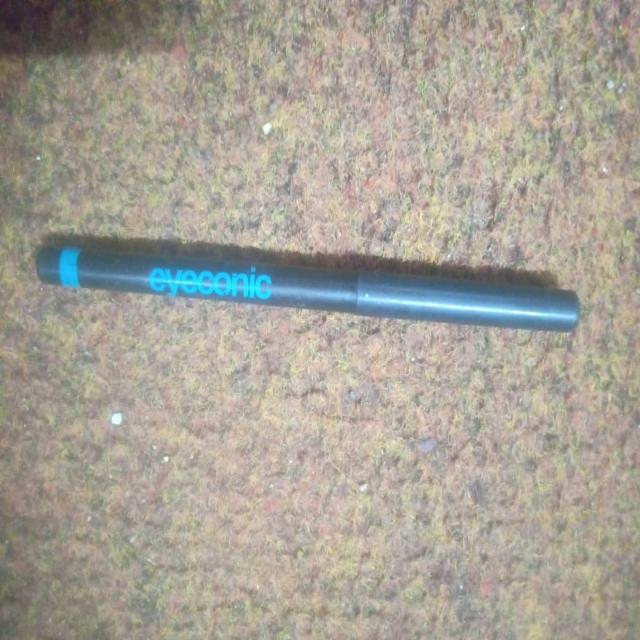eye liner: (28, 222, 589, 364)
